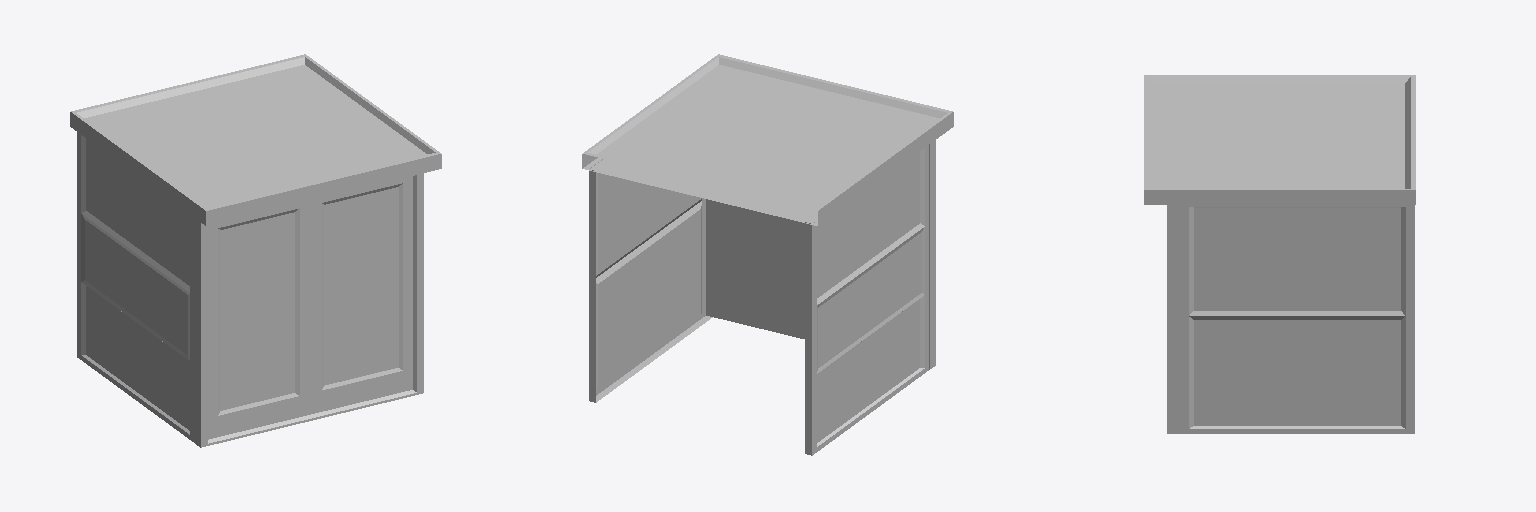
Rendered from porch.obj.
The picture shows the model from 3 angles: view 1: azimuth 30°, elevation 25°; view 2: azimuth 150°, elevation 25°; view 3: azimuth 270°, elevation 25°; orthographic projection.
Parts seen in each view (by area): view 1: Box013; view 2: Box013; view 3: Box013.
Boxes of the visible parts, box(x1,y1,x2,y2) form: Box013: box(70, 54, 441, 447); Box013: box(582, 54, 953, 455); Box013: box(1144, 75, 1415, 433).
Size of the model in its own units: 12.79 by 12.8 by 12.79.